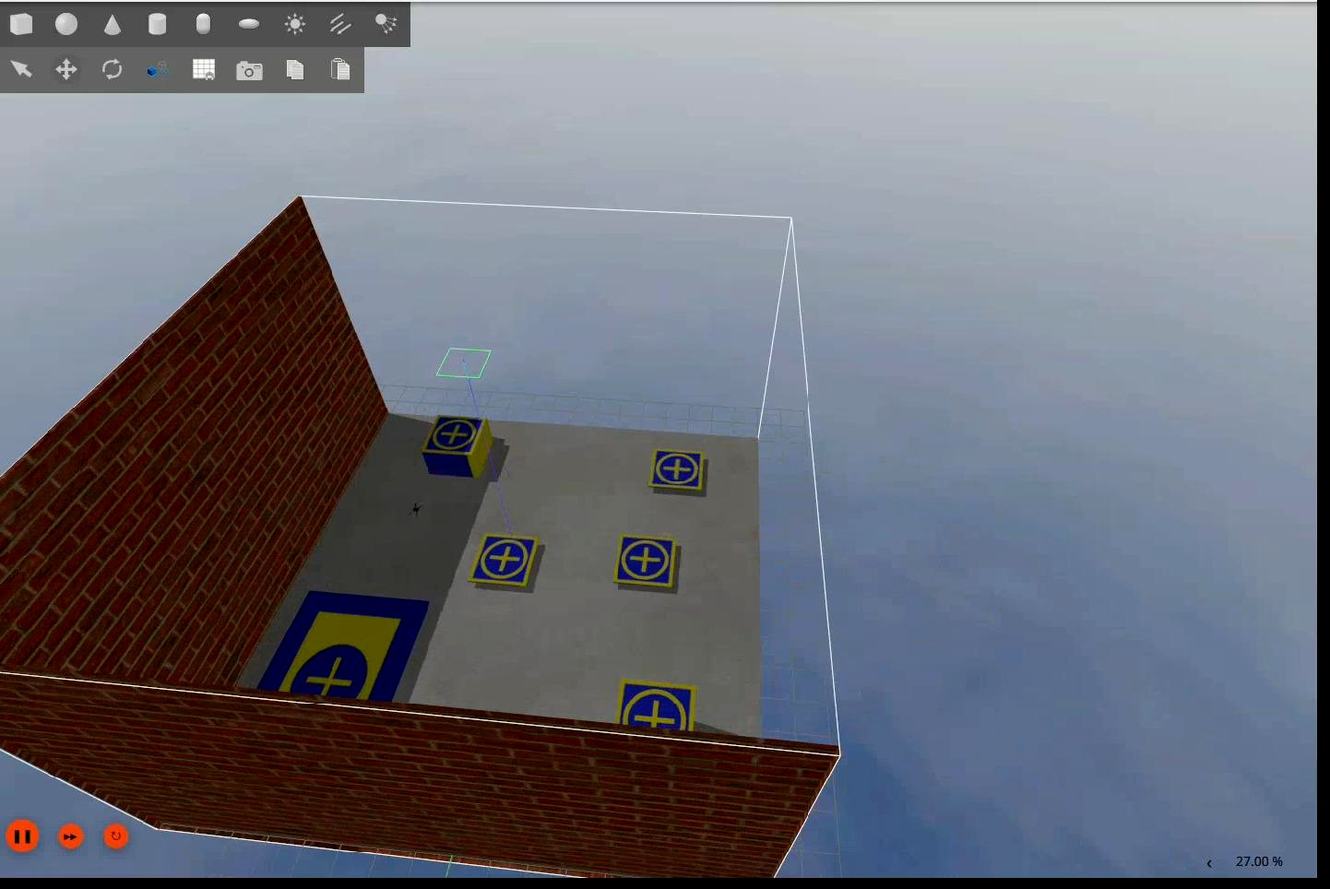large_base: (255, 589, 431, 705)
small_base: (618, 681, 697, 735), (470, 534, 540, 587), (614, 534, 678, 590), (649, 447, 707, 492), (422, 415, 488, 454)
